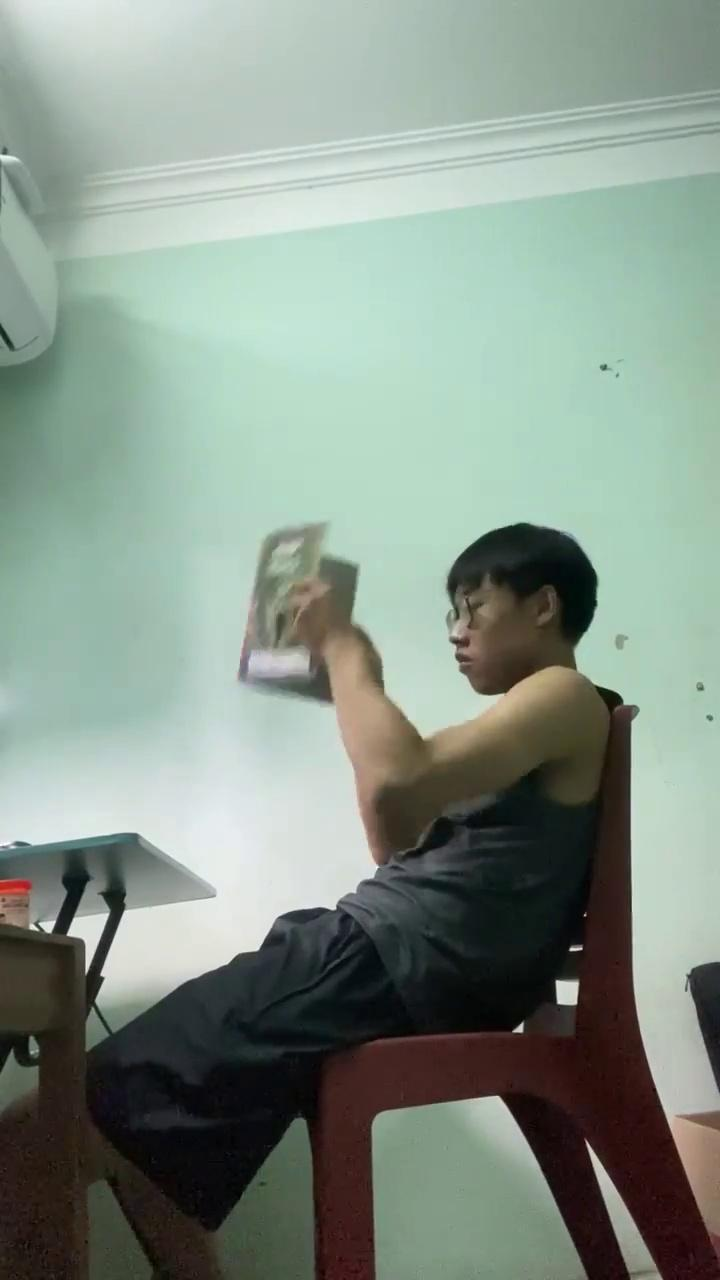BadPosture: (14, 532, 604, 1279), (239, 522, 621, 1031)
